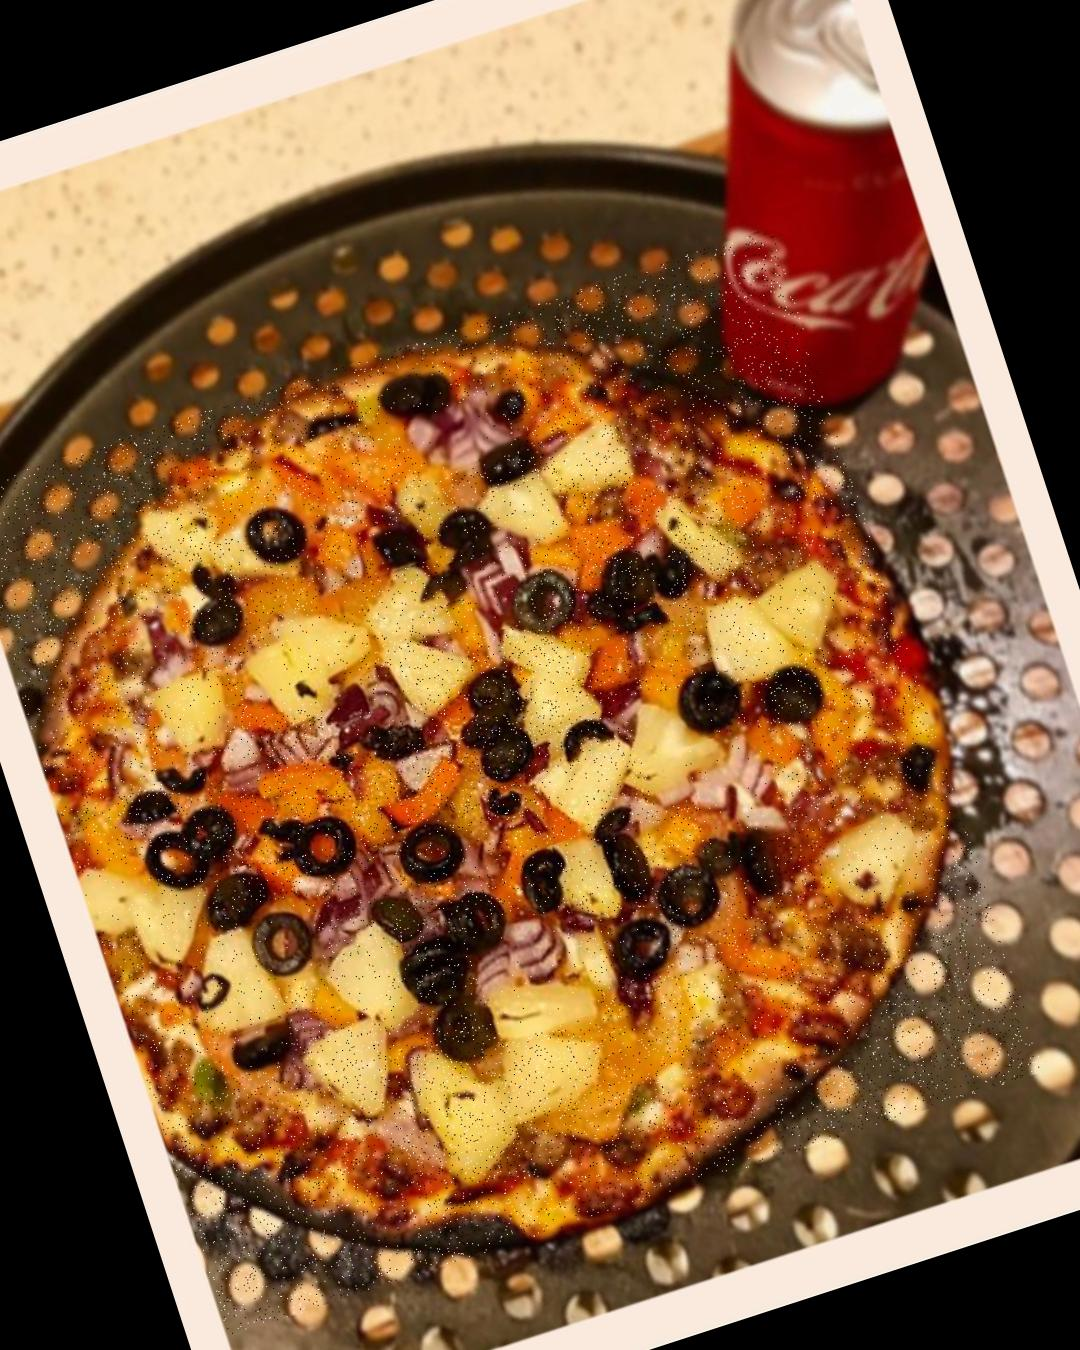Olives: (449, 650, 553, 791), (581, 791, 671, 917), (170, 541, 259, 659), (132, 810, 242, 904), (641, 846, 739, 943), (669, 652, 767, 748), (280, 802, 374, 901), (577, 561, 674, 655), (420, 980, 514, 1072), (240, 893, 330, 990), (367, 355, 464, 441), (755, 648, 844, 738), (233, 493, 321, 577), (594, 903, 682, 987), (547, 693, 634, 776), (423, 494, 507, 576), (438, 877, 519, 961), (395, 935, 483, 1011), (393, 810, 474, 893), (505, 562, 587, 641), (216, 1008, 305, 1079), (503, 840, 577, 924), (203, 861, 278, 936), (365, 878, 438, 955), (642, 539, 709, 613), (601, 548, 668, 615), (363, 514, 432, 579), (477, 432, 548, 495), (118, 776, 188, 832), (158, 747, 215, 806), (414, 558, 476, 611), (479, 778, 533, 827), (492, 382, 538, 426)
Onion: (681, 724, 793, 855), (294, 845, 414, 939), (466, 909, 579, 1008), (404, 392, 516, 482), (316, 663, 420, 756), (253, 696, 346, 781), (458, 546, 539, 637), (128, 606, 201, 692), (453, 816, 525, 889), (209, 727, 280, 799), (483, 514, 547, 592), (87, 728, 151, 801), (392, 737, 468, 797), (283, 996, 338, 1057), (533, 420, 583, 464)
Pineapple: (399, 1020, 529, 1192), (484, 1015, 616, 1130), (293, 1011, 410, 1135), (625, 680, 733, 808), (179, 919, 289, 1043), (316, 910, 423, 1037), (369, 606, 485, 720), (816, 810, 932, 920), (531, 731, 647, 838), (695, 576, 804, 689), (492, 595, 601, 703), (753, 551, 858, 661), (240, 628, 346, 738), (263, 588, 380, 688), (541, 406, 647, 512), (353, 557, 462, 658), (655, 484, 753, 596), (512, 655, 618, 757), (150, 663, 249, 773), (487, 963, 605, 1054), (478, 469, 584, 564), (130, 883, 224, 978), (210, 509, 304, 595), (552, 829, 628, 924), (80, 854, 161, 940), (153, 500, 233, 577)
Pizza: (0, 226, 1046, 1335)
